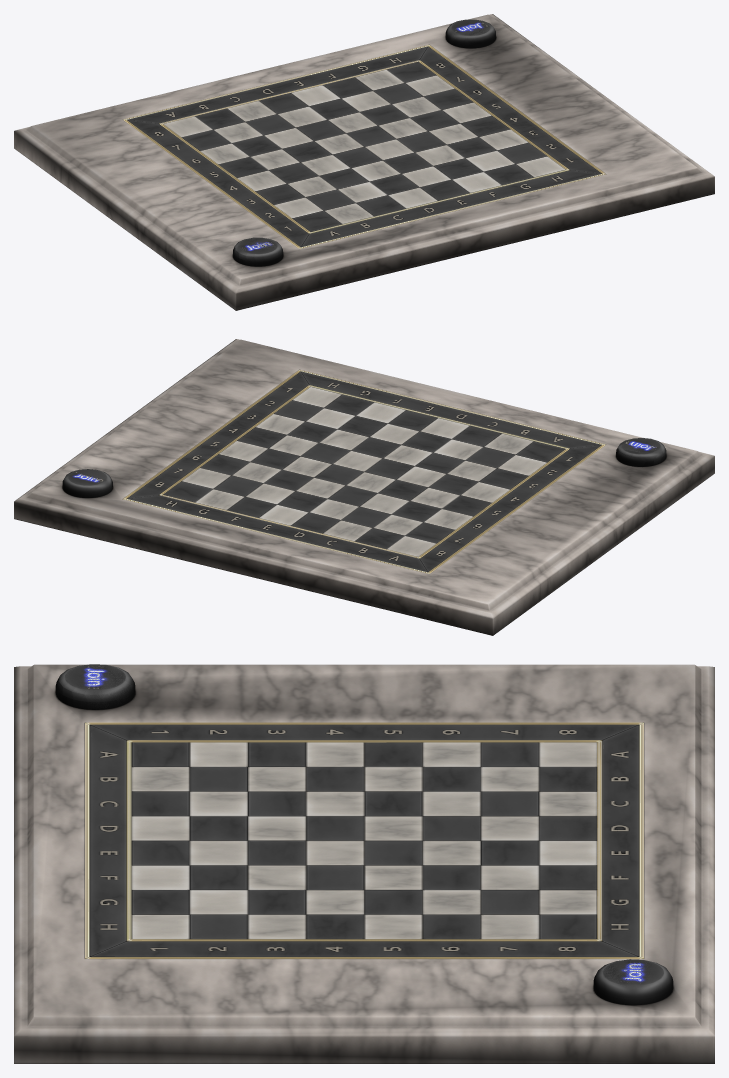
File: Chessboard.gltf
The picture shows the model from 3 angles, top to bottom: view 1: azimuth 30°, elevation 25°; view 2: azimuth 150°, elevation 25°; view 3: azimuth 270°, elevation 25°; orthographic projection. The views are drawn at different scales.
Parts seen in each view (by area): view 1: Chessboard_Main, Player1_Join, Player2_Join, Player1_Leave; view 2: Chessboard_Main, Player2_Leave, Player1_Join, Player1_Leave; view 3: Chessboard_Main, Player1_Join, Player2_Join, Player2_Leave, Player1_Leave.
Boxes of the visible parts, x1=… form: Chessboard_Main: x1=14, y1=14, x2=714, y2=310; Player1_Join: x1=233, y1=237, x2=283, y2=266; Player2_Join: x1=446, y1=19, x2=495, y2=48; Player1_Leave: x1=233, y1=237, x2=282, y2=265; Chessboard_Main: x1=14, y1=339, x2=714, y2=635; Player2_Leave: x1=62, y1=469, x2=112, y2=497; Player1_Join: x1=617, y1=438, x2=666, y2=466; Player1_Leave: x1=616, y1=439, x2=665, y2=466; Chessboard_Main: x1=14, y1=664, x2=714, y2=1063; Player1_Join: x1=55, y1=664, x2=135, y2=709; Player2_Join: x1=593, y1=959, x2=669, y2=1005; Player2_Leave: x1=601, y1=959, x2=673, y2=1005; Player1_Leave: x1=59, y1=664, x2=135, y2=709.
Size of the model in its own units: 0.5712 by 0.0393 by 0.4586.
Materials: 1 (1 with a texture image).
